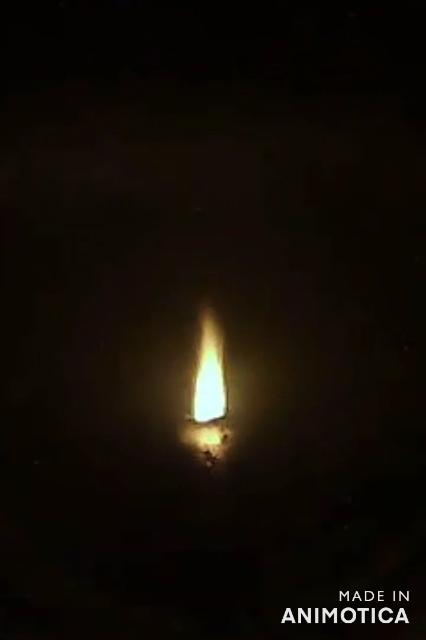burner flame: (188, 301, 233, 427)
